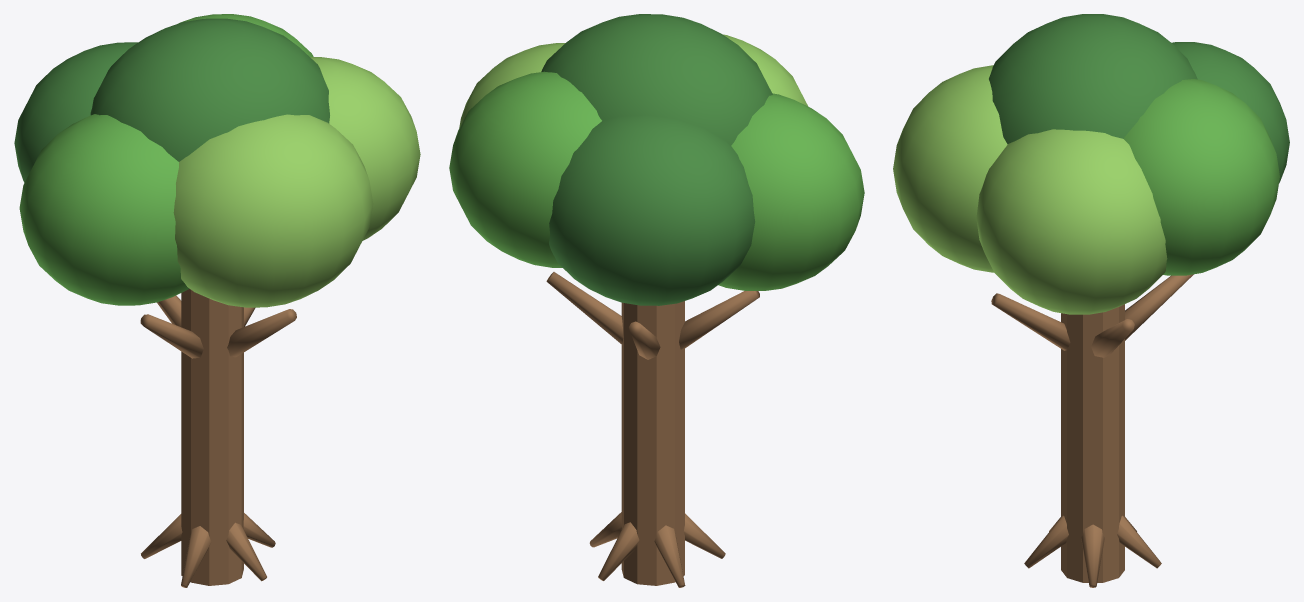
File: Tree_Medium.fbx
3 renders of one model, left to right at view 1: azimuth 30°, elevation 25°; view 2: azimuth 150°, elevation 25°; view 3: azimuth 270°, elevation 25°, orthographic.
Parts seen in each view (by area): view 1: Canopy_Cluster_05, Canopy_Cluster_01, Canopy_Cluster_00, Tree_Trunk, Canopy_Cluster_02, Canopy_Cluster_03, Branch_03.001, Branch_02.001, Root_04, Root_03, Root_02, Canopy_Cluster_04; view 2: Canopy_Cluster_03, Canopy_Cluster_01, Canopy_Cluster_04, Canopy_Cluster_00, Tree_Trunk, Canopy_Cluster_02, Branch_00.001, Branch_02.001, Canopy_Cluster_05, Root_01, Root_02, Branch_01.001 (+1 smaller); view 3: Canopy_Cluster_02, Canopy_Cluster_04, Canopy_Cluster_00, Canopy_Cluster_05, Tree_Trunk, Canopy_Cluster_03, Branch_03.001, Branch_01.001, Root_00, Branch_00.001, Root_01, Root_04.
Part boxes in pixels (bbox=[...]): Canopy_Cluster_05: bbox=[173, 114, 373, 307]; Canopy_Cluster_01: bbox=[19, 114, 189, 305]; Canopy_Cluster_00: bbox=[90, 18, 329, 161]; Tree_Trunk: bbox=[181, 289, 243, 585]; Canopy_Cluster_02: bbox=[310, 57, 420, 240]; Canopy_Cluster_03: bbox=[14, 42, 137, 182]; Branch_03.001: bbox=[227, 309, 296, 357]; Branch_02.001: bbox=[140, 314, 203, 358]; Root_04: bbox=[226, 522, 266, 581]; Root_03: bbox=[181, 526, 211, 587]; Root_02: bbox=[141, 514, 182, 558]; Canopy_Cluster_04: bbox=[178, 14, 313, 56]; Canopy_Cluster_03: bbox=[549, 115, 755, 305]; Canopy_Cluster_01: bbox=[718, 93, 864, 290]; Canopy_Cluster_04: bbox=[449, 71, 601, 267]; Canopy_Cluster_00: bbox=[541, 14, 772, 145]; Tree_Trunk: bbox=[621, 301, 684, 585]; Canopy_Cluster_02: bbox=[459, 43, 565, 127]; Branch_00.001: bbox=[546, 272, 623, 345]; Branch_02.001: bbox=[679, 291, 759, 349]; Canopy_Cluster_05: bbox=[723, 34, 808, 106]; Root_01: bbox=[598, 522, 639, 580]; Root_02: bbox=[654, 525, 685, 587]; Branch_01.001: bbox=[629, 321, 660, 359]; Canopy_Cluster_02: bbox=[976, 129, 1167, 314]; Canopy_Cluster_04: bbox=[1123, 79, 1279, 275]; Canopy_Cluster_00: bbox=[989, 14, 1197, 144]; Canopy_Cluster_05: bbox=[893, 65, 1007, 272]; Tree_Trunk: bbox=[1061, 304, 1124, 582]; Canopy_Cluster_03: bbox=[1171, 42, 1289, 183]; Branch_03.001: bbox=[991, 293, 1070, 350]; Branch_01.001: bbox=[1125, 274, 1193, 340]; Root_00: bbox=[1081, 524, 1104, 587]; Branch_00.001: bbox=[1091, 319, 1134, 357]; Root_01: bbox=[1117, 515, 1161, 568]; Root_04: bbox=[1024, 515, 1068, 568].
Bounding box in the file's own units: 297 × 411 × 273.
